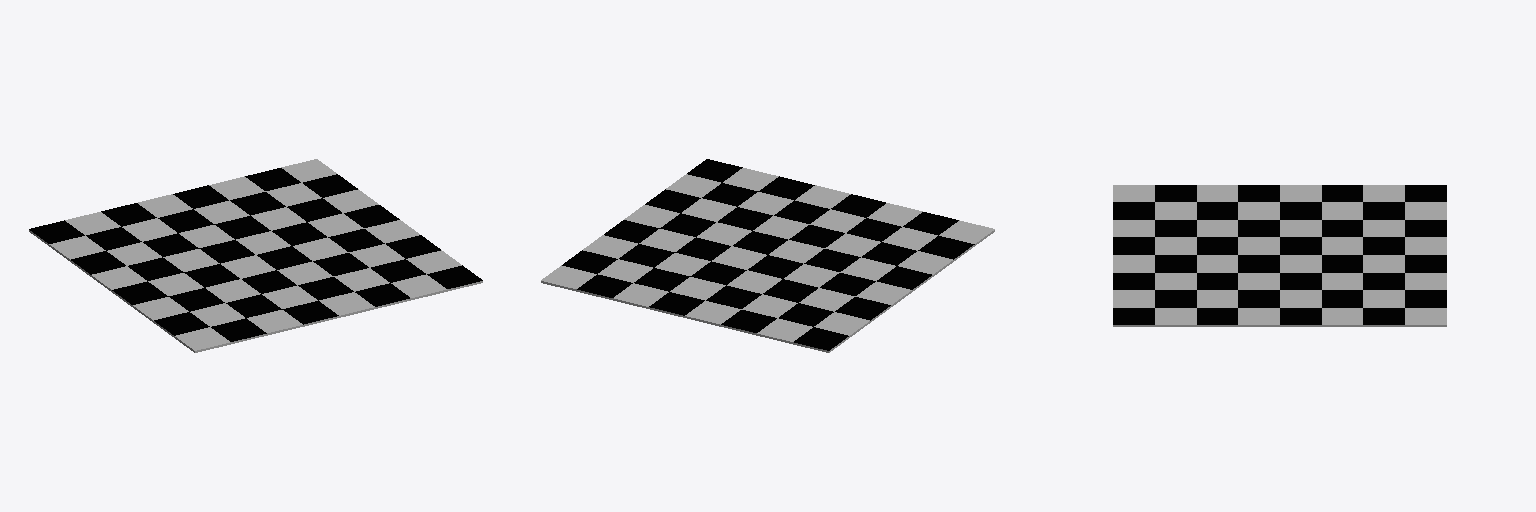
3 renders of one model, left to right at view 1: azimuth 30°, elevation 25°; view 2: azimuth 150°, elevation 25°; view 3: azimuth 270°, elevation 25°, orthographic.
Parts seen in each view (by area): view 1: board_Cube; view 2: board_Cube; view 3: board_Cube.
Boxes of the visible parts, <box> form: board_Cube: <box>29,159,482,352</box>; board_Cube: <box>541,159,994,352</box>; board_Cube: <box>1113,185,1446,326</box>.
Bounding box in the file's own units: 12.74 × 0.0914 × 12.74.